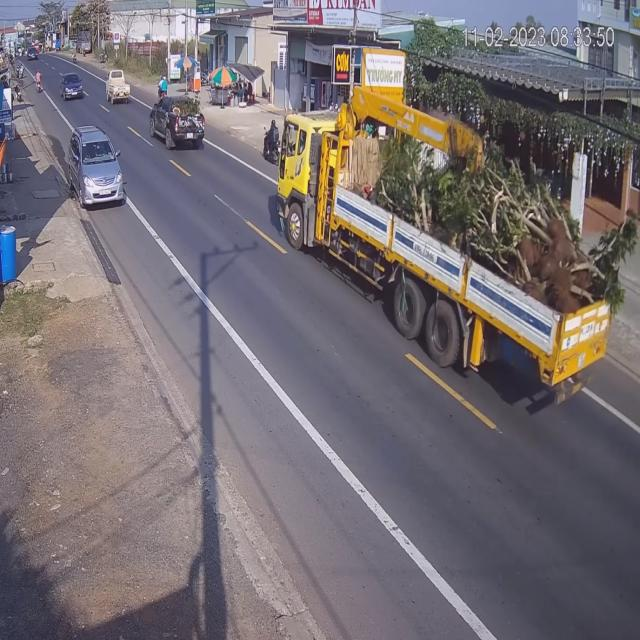car: (67, 127, 125, 211), (154, 96, 208, 153), (61, 75, 85, 104)
motorbike: (265, 116, 281, 166), (34, 70, 41, 94)
truck: (282, 103, 615, 403), (104, 68, 132, 105)
